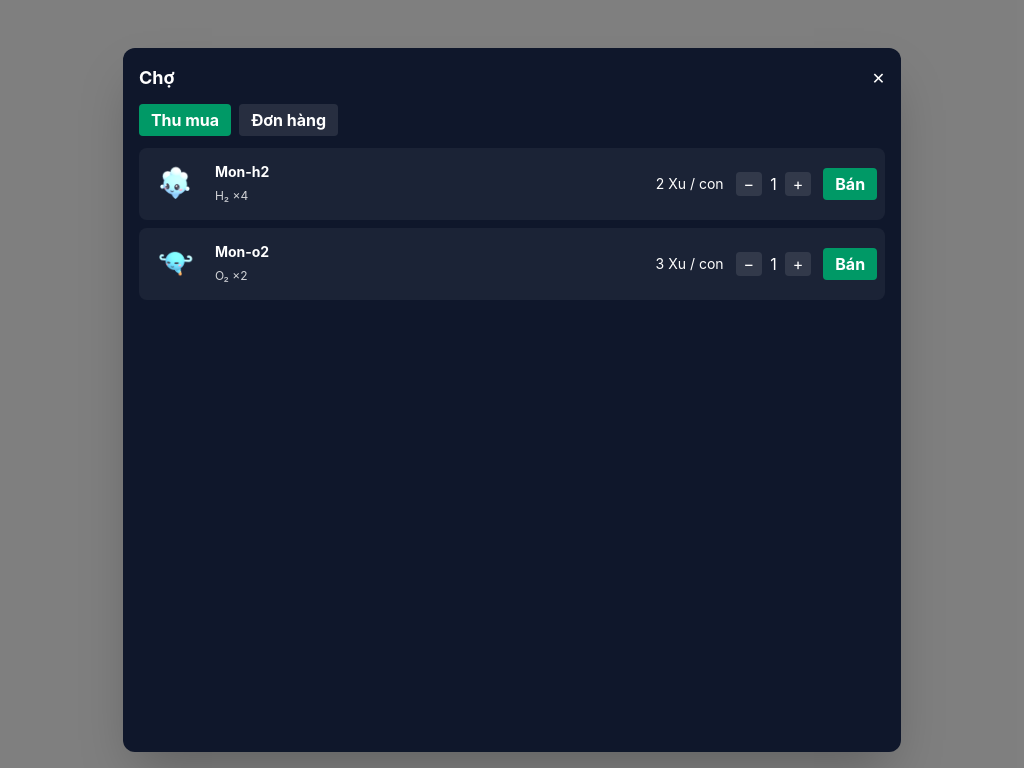
a refused sale (400 UNKNOWN_CHEMICAL) shows the market message, never the breeding copy
Click the button with test id "sell-h2". click: [850, 184]
box: [823,168,877,200]
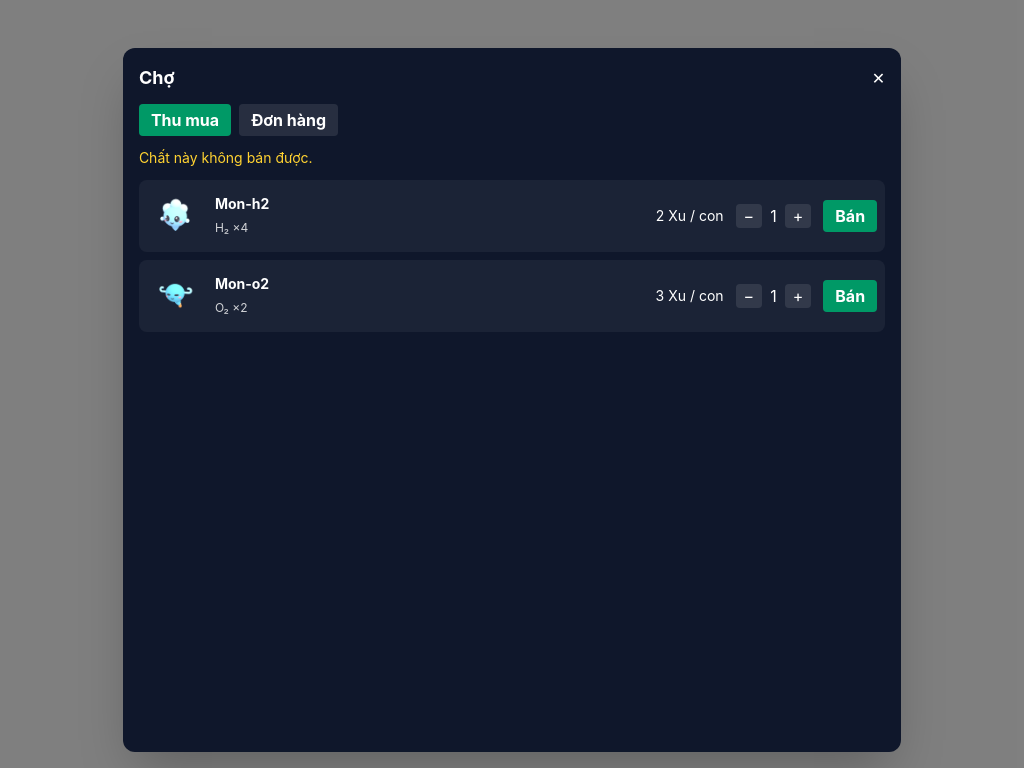
Check: the button with test id "sell-h2" is enabled, box [823,200,877,232]
Check: the message reads "Chất này không bán được.", box [139,149,313,166]
